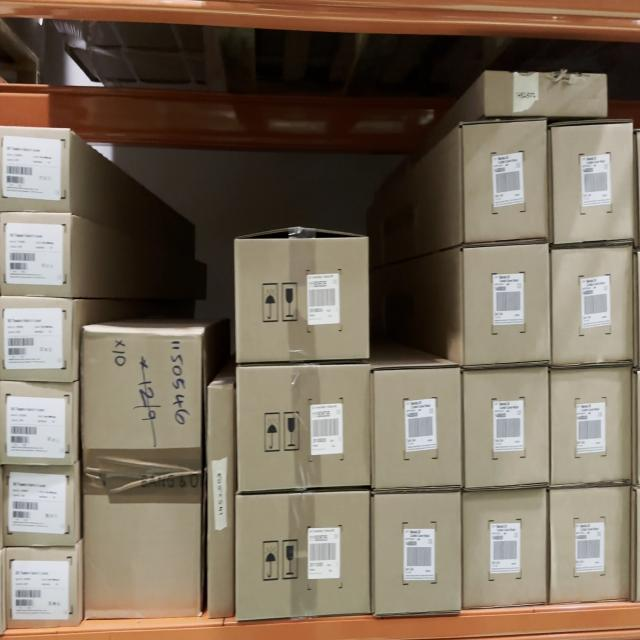box: (83, 330, 199, 616), (238, 364, 370, 490), (236, 495, 370, 613), (236, 240, 368, 356), (373, 367, 459, 490), (373, 497, 461, 612), (462, 122, 546, 241), (462, 250, 550, 361), (465, 371, 549, 487), (550, 128, 634, 241), (554, 247, 632, 366), (462, 494, 546, 604), (550, 488, 630, 601), (552, 372, 630, 483), (0, 128, 70, 212), (0, 385, 73, 464), (208, 386, 233, 616), (0, 216, 70, 296), (6, 549, 78, 625), (1, 301, 71, 379), (4, 469, 76, 543), (485, 75, 607, 114)
